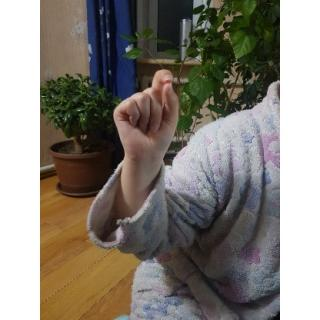FAA: (113, 64, 184, 166)
